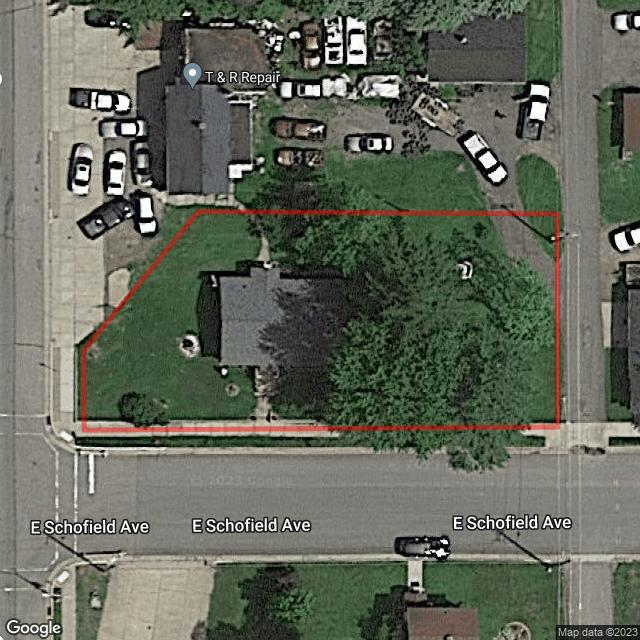Driveway: (249, 368, 280, 418)
Extra Lawn: (73, 436, 339, 448), (74, 345, 82, 421)
Extra Sidewalk: (83, 419, 337, 437)
House: (220, 265, 344, 367)
Other: (179, 334, 201, 358)
Sidewalk: (255, 216, 270, 261)
